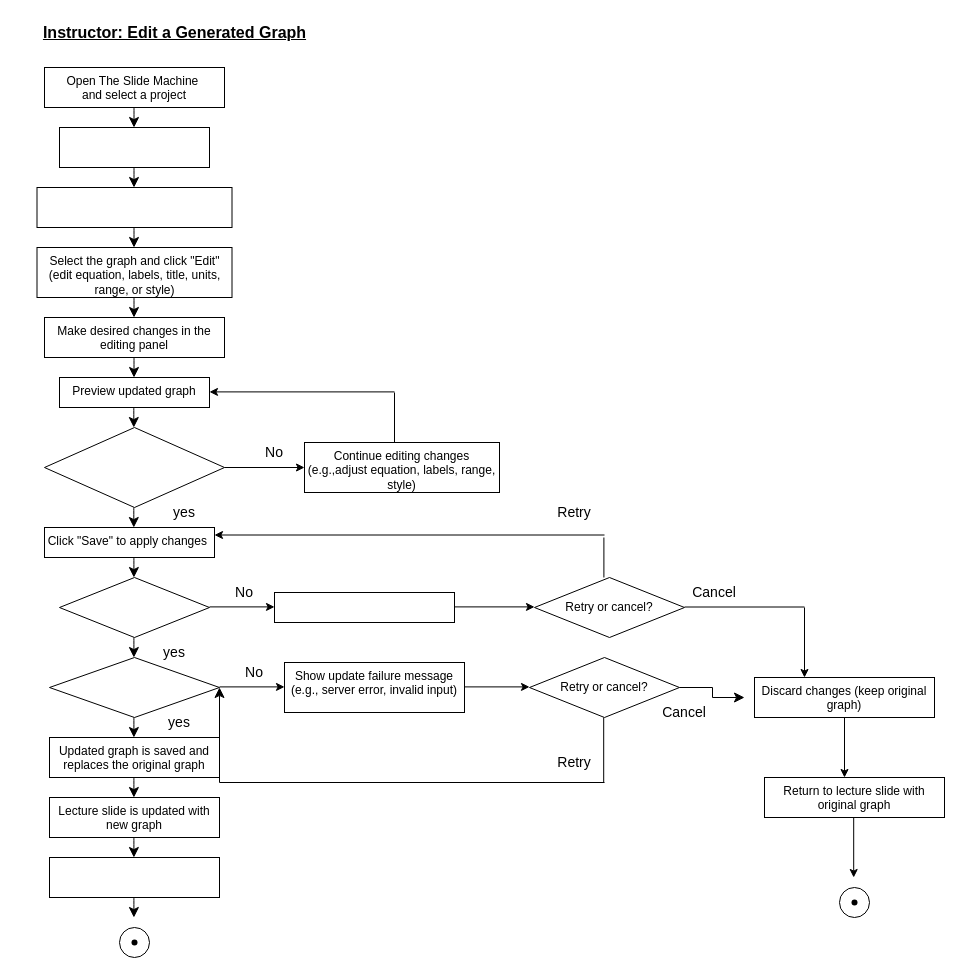
The diagram is 962 pixels wide and 975 high, and some of its shapes have lost their labels. Here are the shapes that lost their labels. From the top down, the box of each, then its label:
(58, 126, 210, 168): Open an existing lecture (or start a new one)
(36, 186, 232, 228): Navigate to a slide that contains a generated graph
(44, 426, 224, 508): Does the graph look correct and clear?
(58, 576, 210, 638): Is network available?
(274, 592, 454, 622): Show network error message
(48, 656, 220, 718): Can it update the graph?
(48, 856, 220, 898): Lecture continues with edited graph
